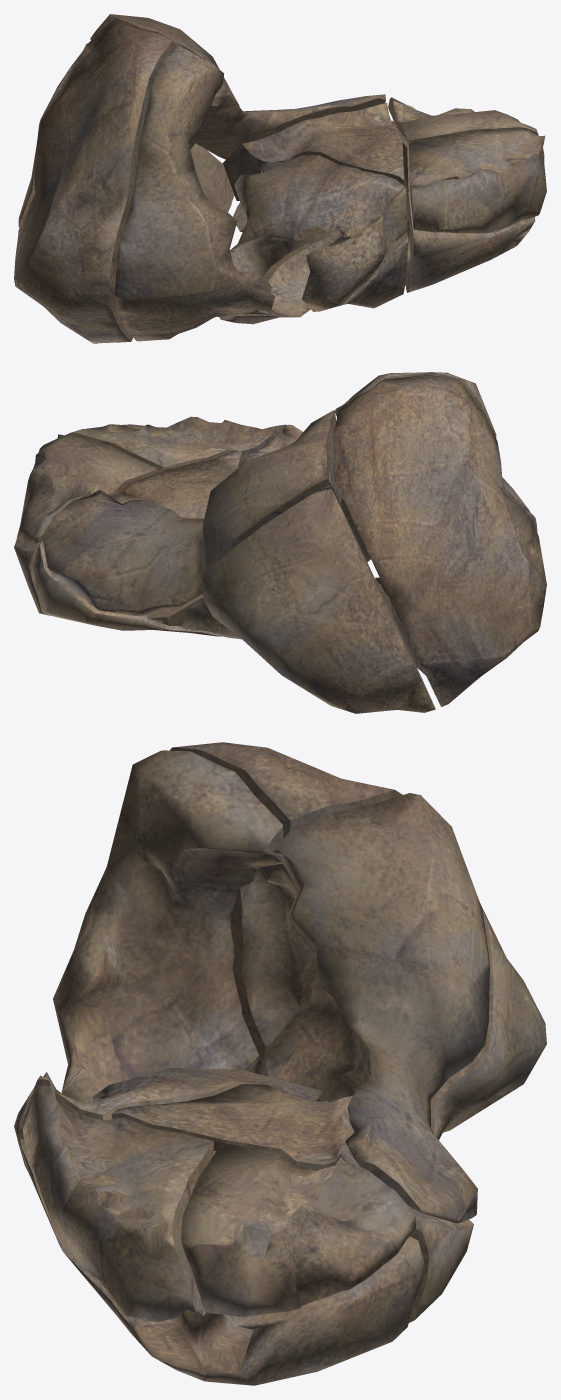
The model's file is SM_FossilNode_2_Pieces.fbx.
3 renders of one model, top to bottom at view 1: azimuth 30°, elevation 25°; view 2: azimuth 150°, elevation 25°; view 3: azimuth 270°, elevation 25°, orthographic. The views are drawn at different scales.
Visible parts, largest first — view 1: SM_FossilNode_2_Pieces_1, SM_FossilNode_2_Pieces_2, SM_FossilNode_2_Pieces_4, SM_FossilNode_2_Pieces_10, SM_FossilNode_2_Pieces_8, SM_FossilNode_2_Pieces_6, SM_FossilNode_2_Pieces_7, SM_FossilNode_2_Pieces_9, SM_FossilNode_2_Pieces_5, SM_FossilNode_2_Pieces_11, SM_FossilNode_2_Pieces_3; view 2: SM_FossilNode_2_Pieces_1, SM_FossilNode_2_Pieces_3, SM_FossilNode_2_Pieces_6, SM_FossilNode_2_Pieces_11, SM_FossilNode_2_Pieces_10, SM_FossilNode_2_Pieces_8, SM_FossilNode_2_Pieces_7, SM_FossilNode_2_Pieces_2, SM_FossilNode_2_Pieces_9, SM_FossilNode_2_Pieces_4; view 3: SM_FossilNode_2_Pieces_6, SM_FossilNode_2_Pieces_2, SM_FossilNode_2_Pieces_11, SM_FossilNode_2_Pieces_10, SM_FossilNode_2_Pieces_9, SM_FossilNode_2_Pieces_1, SM_FossilNode_2_Pieces_3, SM_FossilNode_2_Pieces_8, SM_FossilNode_2_Pieces_4, SM_FossilNode_2_Pieces_7.
Part boxes in pixels (x1,y1,x2,y2): SM_FossilNode_2_Pieces_1: [14, 18, 182, 343]; SM_FossilNode_2_Pieces_2: [114, 44, 277, 341]; SM_FossilNode_2_Pieces_4: [214, 154, 407, 317]; SM_FossilNode_2_Pieces_10: [408, 129, 546, 233]; SM_FossilNode_2_Pieces_8: [223, 103, 403, 200]; SM_FossilNode_2_Pieces_6: [90, 14, 385, 159]; SM_FossilNode_2_Pieces_7: [219, 202, 407, 324]; SM_FossilNode_2_Pieces_9: [391, 120, 535, 292]; SM_FossilNode_2_Pieces_5: [302, 215, 388, 311]; SM_FossilNode_2_Pieces_11: [388, 97, 538, 142]; SM_FossilNode_2_Pieces_3: [18, 43, 234, 343]; SM_FossilNode_2_Pieces_1: [333, 375, 546, 706]; SM_FossilNode_2_Pieces_3: [181, 485, 435, 713]; SM_FossilNode_2_Pieces_6: [42, 410, 341, 616]; SM_FossilNode_2_Pieces_11: [17, 435, 158, 543]; SM_FossilNode_2_Pieces_10: [57, 416, 286, 475]; SM_FossilNode_2_Pieces_8: [110, 450, 241, 626]; SM_FossilNode_2_Pieces_7: [33, 543, 221, 636]; SM_FossilNode_2_Pieces_2: [335, 372, 537, 675]; SM_FossilNode_2_Pieces_9: [14, 538, 49, 615]; SM_FossilNode_2_Pieces_4: [245, 424, 302, 461]; SM_FossilNode_2_Pieces_6: [273, 793, 489, 1223]; SM_FossilNode_2_Pieces_2: [53, 750, 283, 1102]; SM_FossilNode_2_Pieces_11: [181, 1143, 415, 1317]; SM_FossilNode_2_Pieces_10: [23, 1085, 213, 1321]; SM_FossilNode_2_Pieces_9: [19, 1139, 424, 1385]; SM_FossilNode_2_Pieces_1: [169, 742, 402, 1074]; SM_FossilNode_2_Pieces_3: [261, 861, 546, 1139]; SM_FossilNode_2_Pieces_8: [111, 1084, 360, 1169]; SM_FossilNode_2_Pieces_4: [21, 1068, 328, 1127]; SM_FossilNode_2_Pieces_7: [17, 1134, 473, 1322].
Bounding box in the file's own units: 1.33 × 0.7707 × 0.8686.
